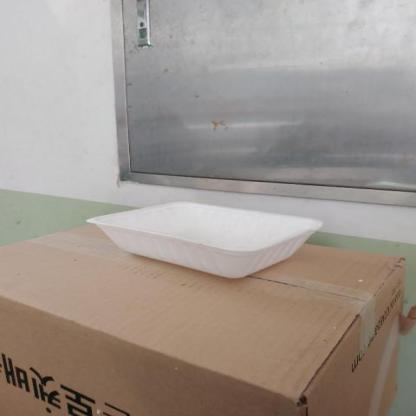Glass Cup: (90, 202, 324, 280), (87, 202, 323, 279)
